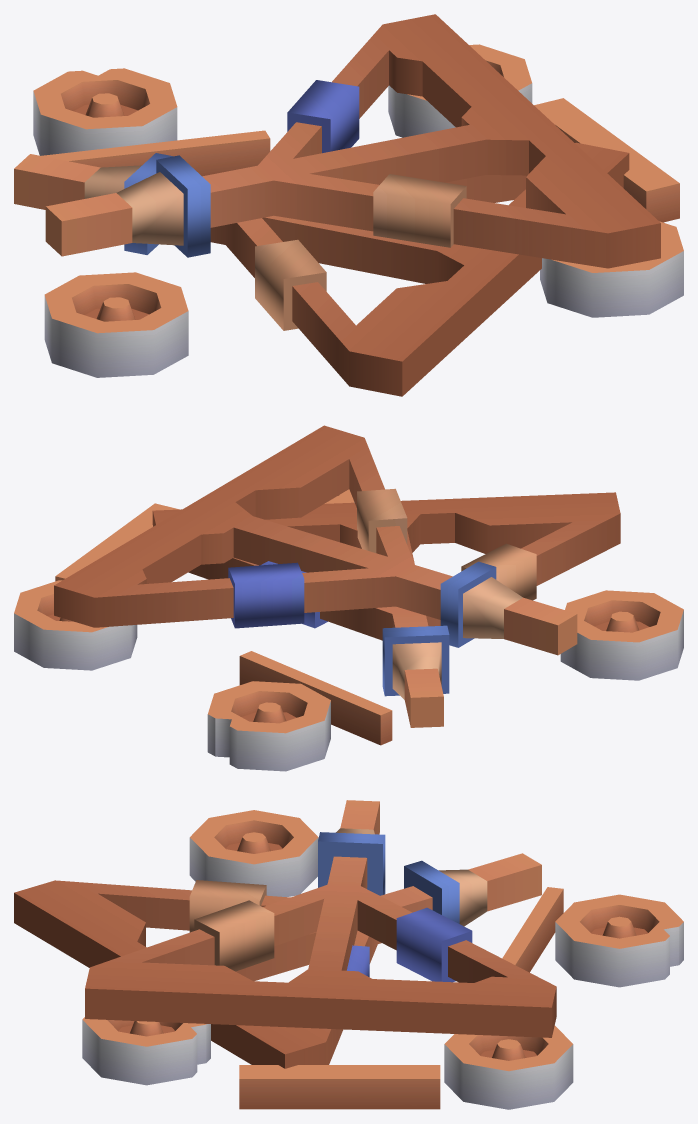
File: kenney-castle-siege-trebuchet.glb
3 views of the same model, one above another, from view 1: azimuth 30°, elevation 25°; view 2: azimuth 150°, elevation 25°; view 3: azimuth 270°, elevation 25° (orthographic). The views are drawn at different scales.
Parts seen in each view (by area): view 1: siege-trebuchet-demolished; view 2: siege-trebuchet-demolished; view 3: siege-trebuchet-demolished.
Boxes of the visible parts, left/top/right/bottom form: siege-trebuchet-demolished: left=14, top=14, right=683, bottom=396; siege-trebuchet-demolished: left=14, top=425, right=683, bottom=771; siege-trebuchet-demolished: left=14, top=800, right=683, bottom=1109.
Bounding box in the file's own units: 1.93 × 0.3097 × 2.1.
1 material, 1 textured.
